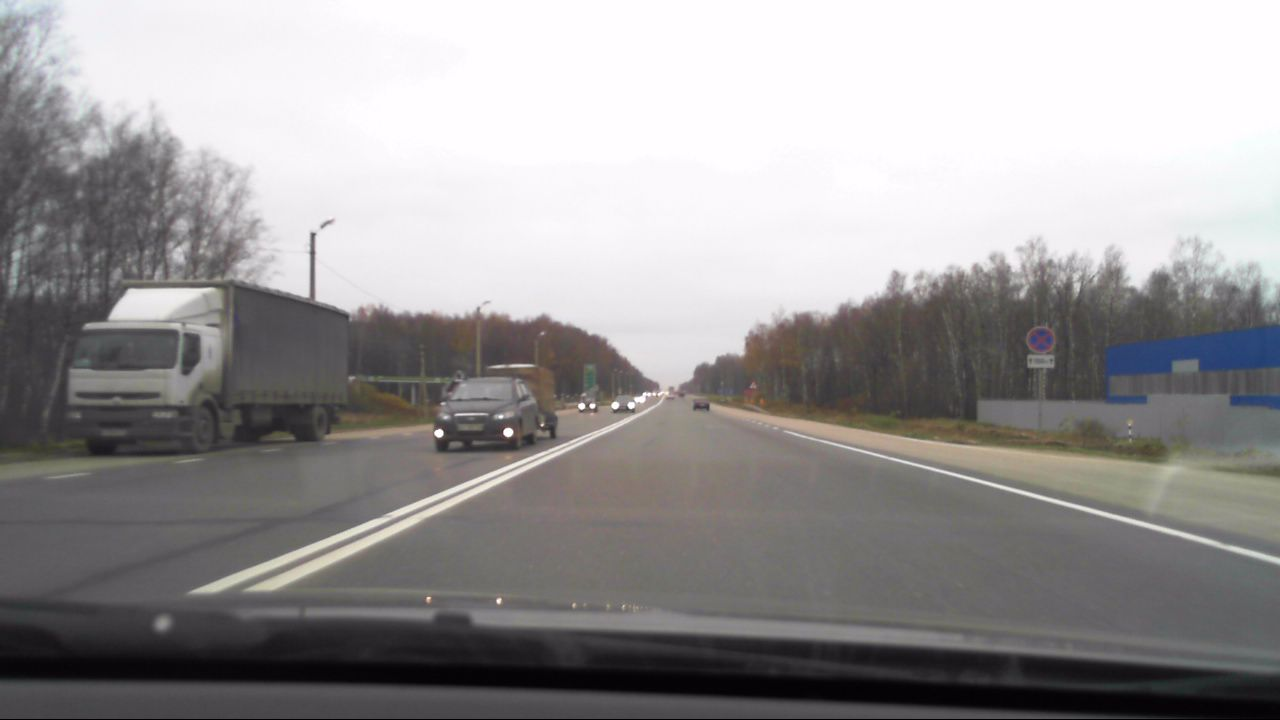No Parking: (1026, 323, 1060, 353)
